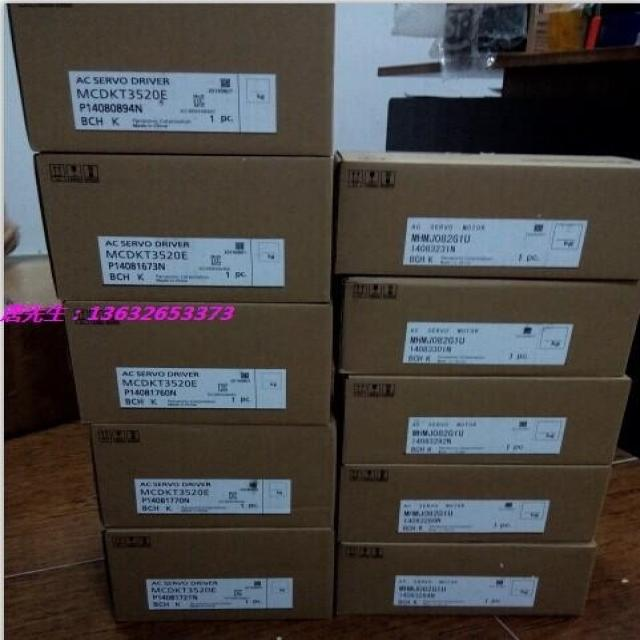box: (5, 1, 335, 155), (32, 155, 333, 302), (334, 149, 640, 282), (61, 302, 331, 426), (342, 279, 640, 375), (339, 375, 631, 464), (88, 423, 335, 527), (100, 526, 339, 628), (338, 465, 613, 542), (338, 544, 596, 613)
